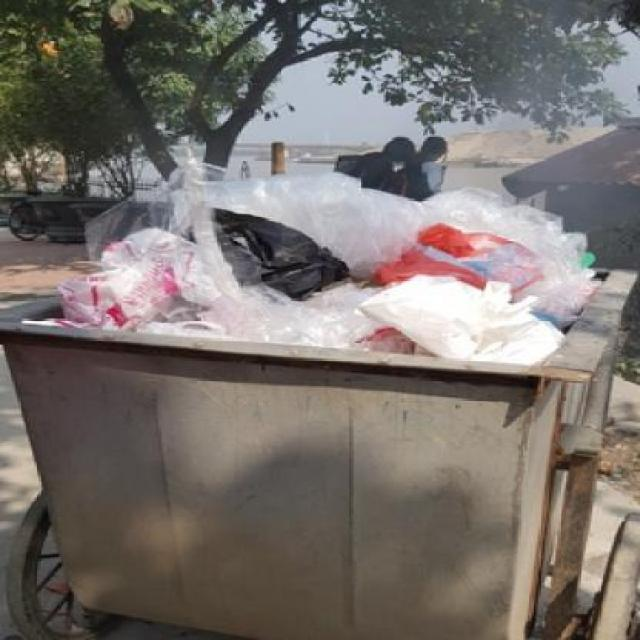plastic bag: (26, 157, 600, 378)
